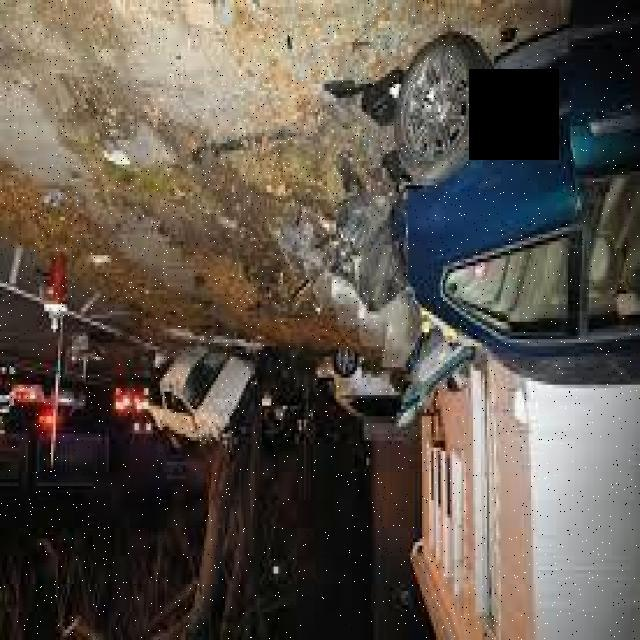severe: (134, 342, 266, 458), (314, 346, 451, 437)
